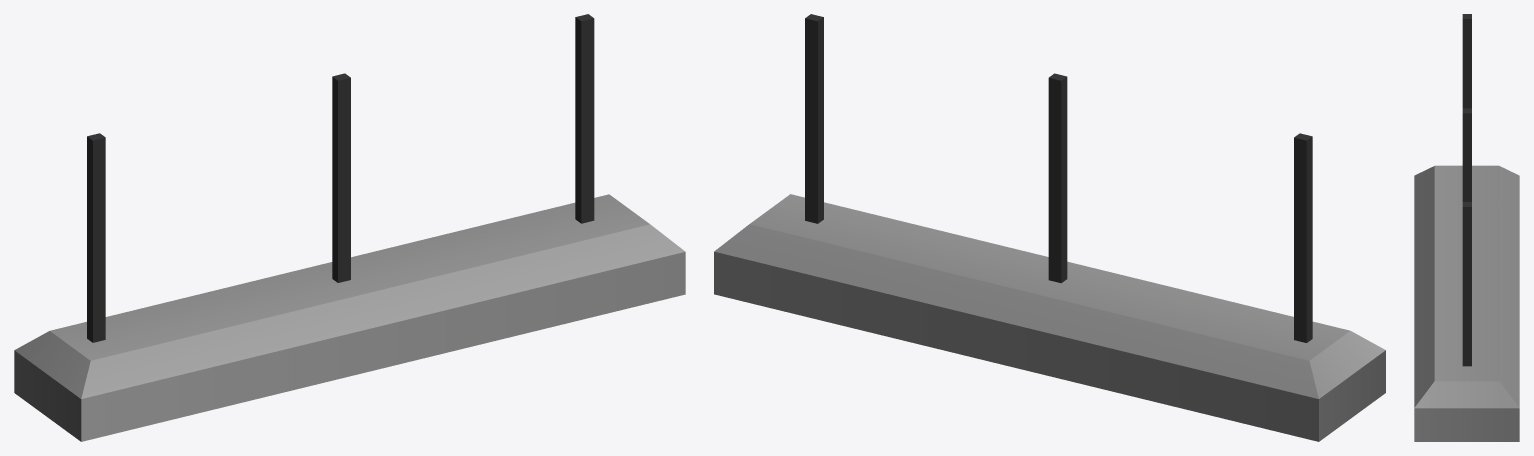
The model's file is B03_lamp.fbx.
3 renders of one model, left to right at view 1: azimuth 30°, elevation 25°; view 2: azimuth 150°, elevation 25°; view 3: azimuth 270°, elevation 25°, orthographic. The views are drawn at different scales.
Visible parts, largest first — view 1: B03_lamp; view 2: B03_lamp; view 3: B03_lamp.
Boxes of the visible parts, left/top/right/bottom form: B03_lamp: left=14, top=14, right=685, bottom=441; B03_lamp: left=714, top=14, right=1385, bottom=441; B03_lamp: left=1414, top=14, right=1519, bottom=441.
Size of the model in its own units: 387 by 164 by 74.21.
